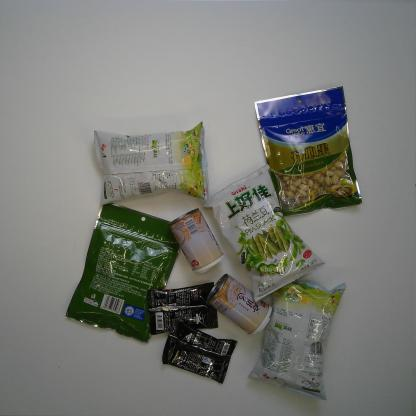Canned Food: (205, 273, 273, 338), (168, 208, 226, 274)
Dried Fruit: (62, 200, 184, 345), (254, 84, 364, 218)
Instant Drink: (160, 318, 238, 384), (145, 279, 220, 336)
Puffed Food: (198, 163, 326, 304), (247, 278, 348, 402), (90, 119, 210, 206)
